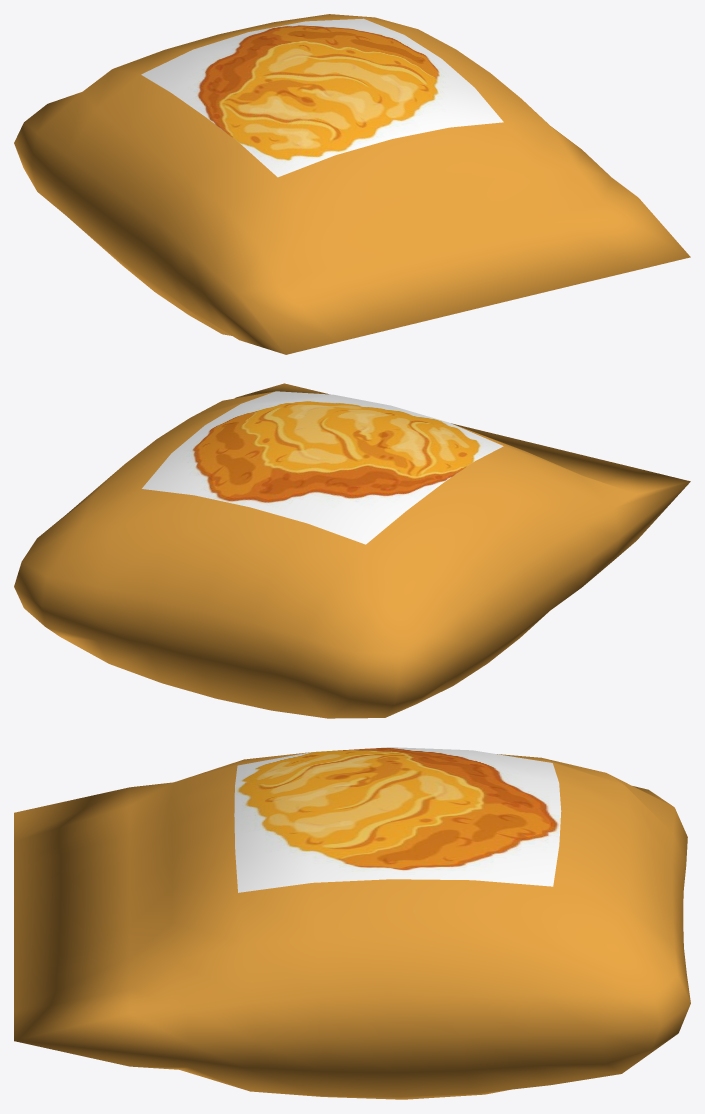
File: paquete de nuggets.fbx
3 renders of one model, top to bottom at view 1: azimuth 30°, elevation 25°; view 2: azimuth 150°, elevation 25°; view 3: azimuth 270°, elevation 25°, orthographic. The views are drawn at different scales.
Parts seen in each view (by area): view 1: PAQUETE DE Nuggets; view 2: PAQUETE DE Nuggets; view 3: PAQUETE DE Nuggets.
Part boxes in pixels (x1,y1,x2,y2): PAQUETE DE Nuggets: (14,14,690,354); PAQUETE DE Nuggets: (14,383,690,718); PAQUETE DE Nuggets: (14,747,690,1099).
Bounding box in the file's own units: 22.53 × 11.85 × 27.68.
2 materials, 1 textured.
